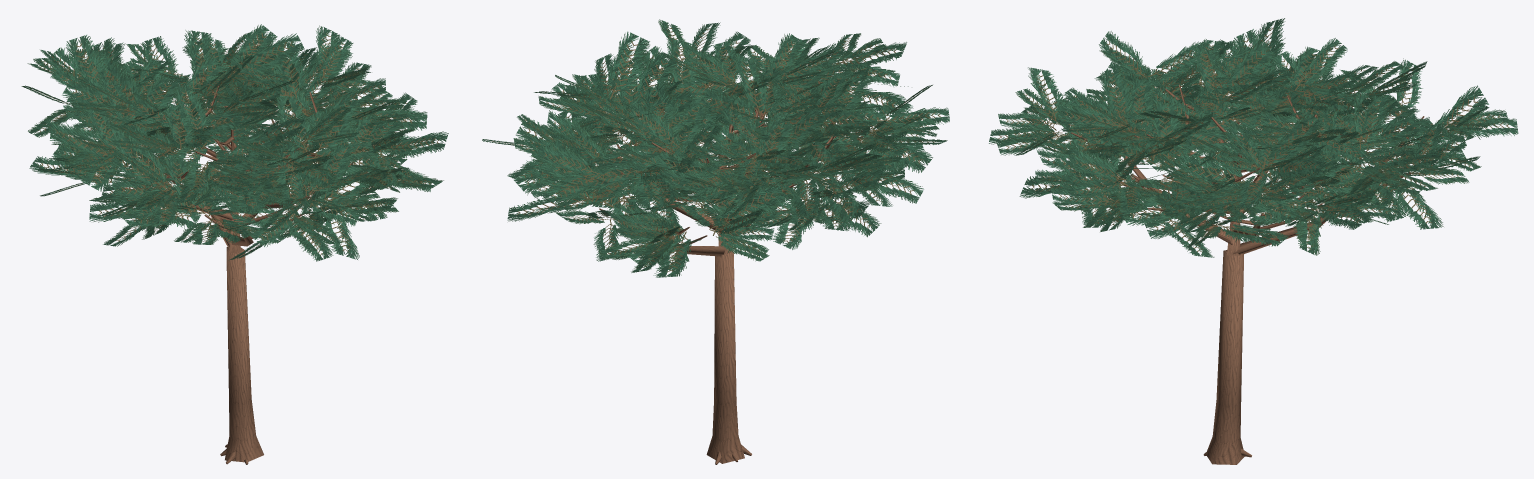
The model's file is pine_far.glb.
3 renders of one model, left to right at view 1: azimuth 30°, elevation 25°; view 2: azimuth 150°, elevation 25°; view 3: azimuth 270°, elevation 25°, orthographic. The views are drawn at different scales.
Parts seen in each view (by area): view 1: pine_far; view 2: pine_far; view 3: pine_far.
Boxes of the visible parts, x1,y1,x2,y2 form: pine_far: (21, 24, 448, 464); pine_far: (482, 19, 949, 464); pine_far: (989, 18, 1518, 464).
Bounding box in the file's own units: 9.32 × 9.4 × 11.89.
Materials: 2 (2 with a texture image).
